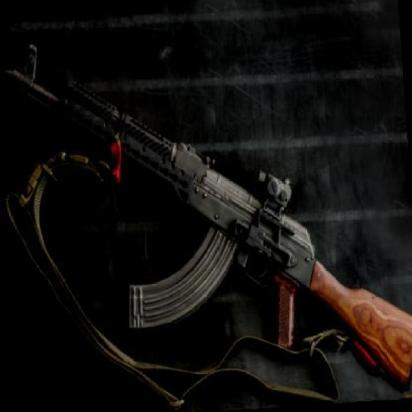Gun: (12, 26, 403, 354)
